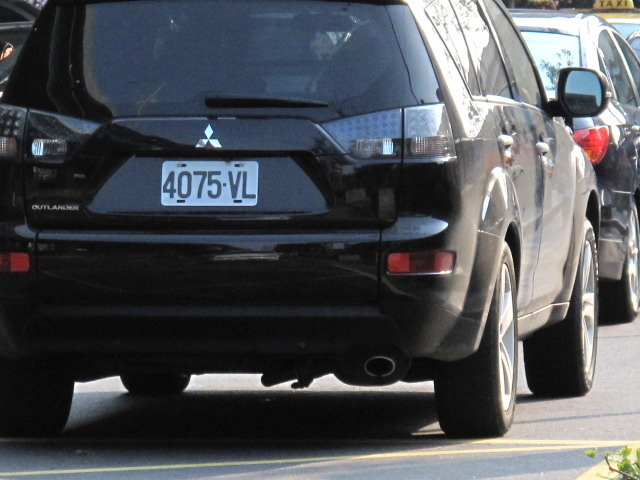plate: (157, 155, 261, 209)
